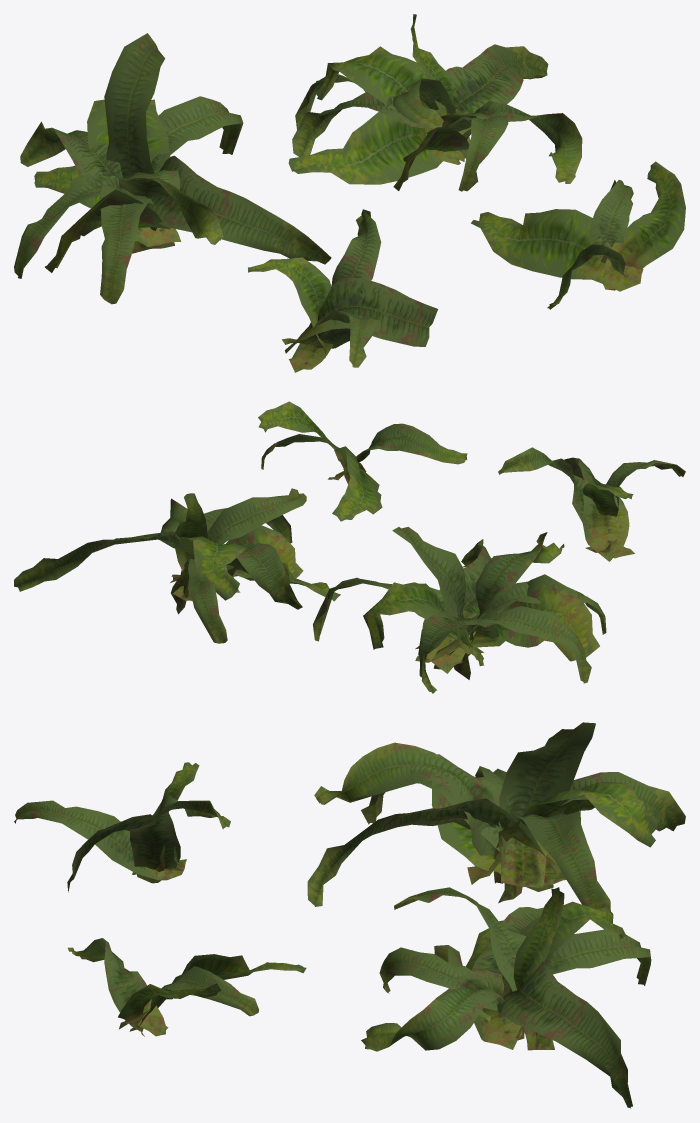
File: distant.glb
The picture shows the model from 3 angles, top to bottom: view 1: azimuth 30°, elevation 25°; view 2: azimuth 150°, elevation 25°; view 3: azimuth 270°, elevation 25°; orthographic projection. The views are drawn at different scales.
Visible parts, largest first — view 1: fern_02_b, fern_02_c, fern_02_d, fern_02_a; view 2: fern_02_b, fern_02_c, fern_02_d, fern_02_a; view 3: fern_02_b, fern_02_c, fern_02_a, fern_02_d.
Boxes of the visible parts, x1,y1,x2,y2 form: fern_02_b: [14, 33, 331, 304]; fern_02_c: [288, 14, 582, 191]; fern_02_d: [471, 161, 685, 309]; fern_02_a: [248, 209, 437, 372]; fern_02_b: [313, 526, 606, 693]; fern_02_c: [14, 488, 340, 643]; fern_02_d: [258, 401, 467, 521]; fern_02_a: [498, 447, 685, 561]; fern_02_b: [307, 722, 685, 910]; fern_02_c: [361, 887, 651, 1108]; fern_02_a: [14, 762, 230, 892]; fern_02_d: [68, 938, 306, 1036].
Size of the model in its own units: 2 by 0.5955 by 1.83.
Materials: 1 (1 with a texture image).
